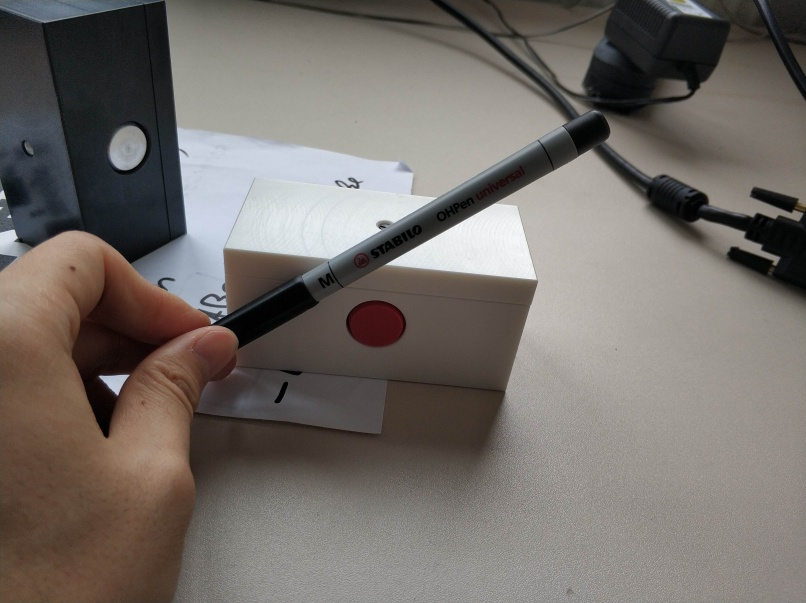black+black+silver: (1, 1, 193, 267)
white+white+red: (221, 171, 540, 396)
